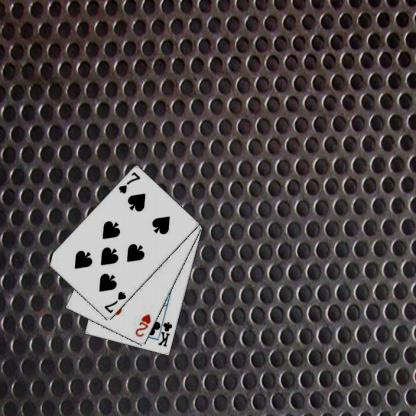2H: (132, 311, 152, 338)
7S: (102, 289, 127, 315), (116, 170, 141, 195)
KC: (154, 316, 173, 348)
